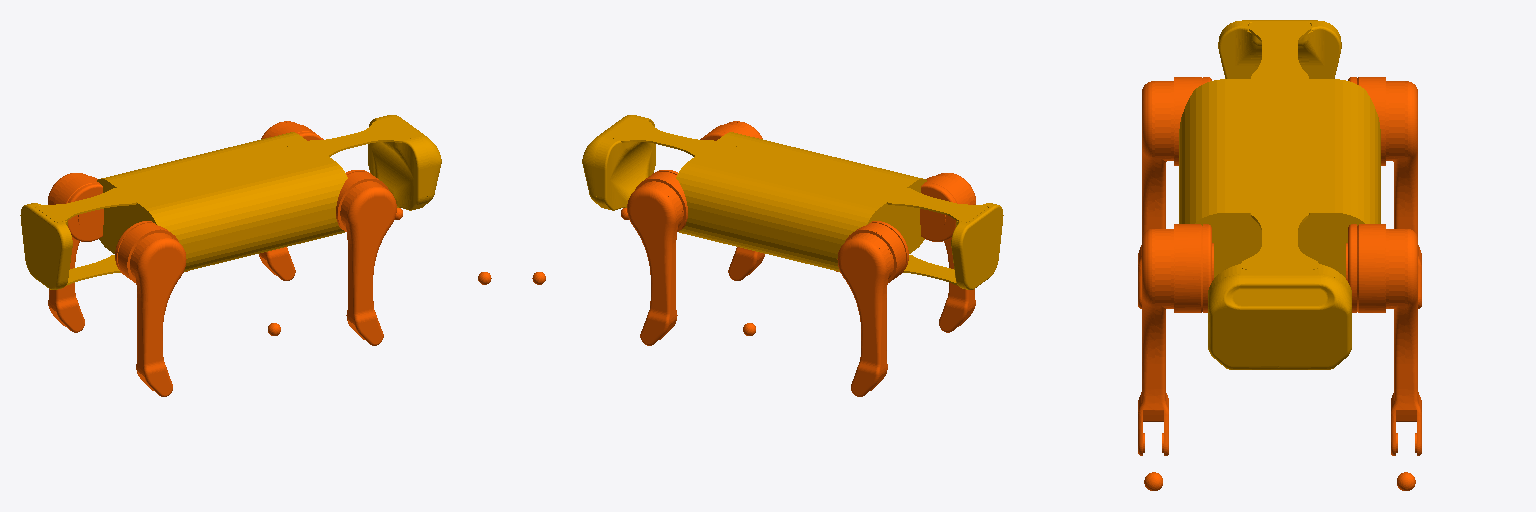
--- What the picture shows (computed from the rendered views, not written in the file) ---
The picture shows the robot from 3 angles, left to right: view 1: azimuth 30°, elevation 25°; view 2: azimuth 150°, elevation 25°; view 3: azimuth 270°, elevation 25°; orthographic projection.
Model robot with 18 links and 17 joints (12 revolute, 5 fixed), rooted at base, posed all joints at 0 but 4 set to mid-range because 0 is outside their limits (RF_KFE = -1.81, LF_KFE = -1.81, RH_KFE = -1.81, LH_KFE = -1.81).
Links seen in each view (by area): view 1: base, RH_thigh, RF_thigh, LH_thigh, LF_thigh; view 2: base, LH_thigh, LF_thigh, RH_thigh, RF_thigh; view 3: base, RF_thigh, LF_thigh, RH_thigh, LH_thigh.
Link boxes in pixels (x1,y1,x2,y2): base: (20,115,441,289); RH_thigh: (115,221,186,396); RF_thigh: (336,170,396,345); LH_thigh: (48,173,103,332); LF_thigh: (259,121,323,280); base: (582,115,1003,289); LH_thigh: (837,221,908,396); LF_thigh: (627,170,687,345); RH_thigh: (920,173,975,332); RF_thigh: (700,121,764,280); base: (1179,20,1380,369); RF_thigh: (1138,224,1213,455); LF_thigh: (1346,224,1421,455); RH_thigh: (1138,77,1211,308); LH_thigh: (1348,77,1421,308).
Size in the robot's own frame: 0.696 by 0.2941 by 0.2695 metres.
Meshes: 5 distinct files referenced, 5 mesh visuals loaded (3 Collada DAE); not drawn: 8 (reference not matched to a file when rendering).

robot.urdf — robot:
<?xml version="1.0" ?>
<!-- =================================================================================== -->
<!-- |    This document was autogenerated by xacro from ./robot.xacro                  | -->
<!-- |    EDITING THIS FILE BY HAND IS NOT RECOMMENDED                                 | -->
<!-- =================================================================================== -->
<robot name="robot">
  <material name="black">
    <color rgba="0.0 0.0 0.0 1.0"/>
  </material>
  <material name="blue">
    <color rgba="0.0 0.0 0.8 1.0"/>
  </material>
  <material name="green">
    <color rgba="0.0 0.8 0.0 1.0"/>
  </material>
  <material name="grey">
    <color rgba="0.2 0.2 0.2 1.0"/>
  </material>
  <material name="silver">
    <color rgba="0.9137254901960784 0.9137254901960784 0.8470588235294118 1.0"/>
  </material>
  <material name="orange">
    <color rgba="1.0 0.4235294117647059 0.0392156862745098 1.0"/>
  </material>
  <material name="brown">
    <color rgba="0.8705882352941177 0.8117647058823529 0.7647058823529411 1.0"/>
  </material>
  <material name="red">
    <color rgba="0.8 0.0 0.0 1.0"/>
  </material>
  <material name="white">
    <color rgba="1.0 1.0 1.0 1.0"/>
  </material>
  <!-- ros_control plugin -->
  <gazebo>
    <plugin filename="liblegged_hw_sim.so" name="gazebo_ros_control">
      <robotNamespace>/</robotNamespace>
      <robotParam>legged_robot_description</robotParam>
      <robotSimType>legged_gazebo/QuadHWSim</robotSimType>
    </plugin>
  </gazebo>
  <gazebo>
    <plugin filename="libgazebo_ros_p3d.so" name="p3d_base_controller">
      <alwaysOn>true</alwaysOn>
      <updateRate>1000.0</updateRate>
      <bodyName>base</bodyName>
      <topicName>ground_truth/state</topicName>
      <gaussianNoise>0</gaussianNoise>
      <frameName>world</frameName>
      <xyzOffsets>0 0 0</xyzOffsets>
      <rpyOffsets>0 0 0</rpyOffsets>
    </plugin>
  </gazebo>
  <gazebo reference="base_link">
    <maxVel>100.</maxVel>
    <kp>10000.</kp>
    <kd>0.</kd>
  </gazebo>
  <gazebo reference="stick_link">
    <mu1>0.2</mu1>
    <mu2>0.2</mu2>
    <material>Gazebo/White</material>
  </gazebo>
  <!-- LF leg -->
  <gazebo reference="LF_hip">
    <mu1>0.2</mu1>
    <mu2>0.2</mu2>
    <material>Gazebo/DarkGrey</material>
  </gazebo>
  <gazebo reference="LF_thigh">
    <mu1>0.2</mu1>
    <mu2>0.2</mu2>
    <self_collide>1</self_collide>
    <material>Gazebo/DarkGrey</material>
    <kp value="1000000.0"/>
    <kd value="1.0"/>
  </gazebo>
  <gazebo reference="LF_calf">
    <mu1>0.2</mu1>
    <mu2>0.2</mu2>
    <self_collide>1</self_collide>
  </gazebo>
  <gazebo reference="LF_FOOT">
    <mu1>0.6</mu1>
    <mu2>0.6</mu2>
    <self_collide>1</self_collide>
    <material>Gazebo/DarkGrey</material>
    <kp value="1000000.0"/>
    <kd value="100.0"/>
  </gazebo>
  <!-- RF leg -->
  <gazebo reference="RF_hip">
    <mu1>0.2</mu1>
    <mu2>0.2</mu2>
    <material>Gazebo/DarkGrey</material>
  </gazebo>
  <gazebo reference="RF_thigh">
    <mu1>0.2</mu1>
    <mu2>0.2</mu2>
    <self_collide>1</self_collide>
    <material>Gazebo/DarkGrey</material>
    <kp value="1000000.0"/>
    <kd value="1.0"/>
  </gazebo>
  <gazebo reference="RF_calf">
    <mu1>0.2</mu1>
    <mu2>0.2</mu2>
    <self_collide>1</self_collide>
  </gazebo>
  <gazebo reference="RF_FOOT">
    <mu1>0.6</mu1>
    <mu2>0.6</mu2>
    <self_collide>1</self_collide>
    <material>Gazebo/DarkGrey</material>
    <kp value="1000000.0"/>
    <kd value="1.0"/>
  </gazebo>
  <!-- LH leg -->
  <gazebo reference="LH_hip">
    <mu1>0.2</mu1>
    <mu2>0.2</mu2>
    <material>Gazebo/DarkGrey</material>
  </gazebo>
  <gazebo reference="LH_thigh">
    <mu1>0.2</mu1>
    <mu2>0.2</mu2>
    <self_collide>1</self_collide>
    <material>Gazebo/DarkGrey</material>
    <kp value="1000000.0"/>
    <kd value="1.0"/>
  </gazebo>
  <gazebo reference="LH_calf">
    <mu1>0.2</mu1>
    <mu2>0.2</mu2>
    <self_collide>1</self_collide>
  </gazebo>
  <gazebo reference="LH_FOOT">
    <mu1>0.6</mu1>
    <mu2>0.6</mu2>
    <self_collide>1</self_collide>
    <material>Gazebo/DarkGrey</material>
    <kp value="1000000.0"/>
    <kd value="1.0"/>
  </gazebo>
  <!-- RH leg -->
  <gazebo reference="RH_hip">
    <mu1>0.2</mu1>
    <mu2>0.2</mu2>
    <material>Gazebo/DarkGrey</material>
  </gazebo>
  <gazebo reference="RH_thigh">
    <mu1>0.2</mu1>
    <mu2>0.2</mu2>
    <self_collide>1</self_collide>
    <material>Gazebo/DarkGrey</material>
    <kp value="1000000.0"/>
    <kd value="1.0"/>
  </gazebo>
  <gazebo reference="RH_calf">
    <mu1>0.2</mu1>
    <mu2>0.2</mu2>
    <self_collide>1</self_collide>
  </gazebo>
  <gazebo reference="RH_FOOT">
    <mu1>0.6</mu1>
    <mu2>0.6</mu2>
    <self_collide>1</self_collide>
    <material>Gazebo/DarkGrey</material>
    <kp value="1000000.0"/>
    <kd value="1.0"/>
  </gazebo>
  <link name="base">
    <visual>
      <origin rpy="0 0 0" xyz="0 0 0"/>
      <geometry>
        <mesh filename="package://unitree_description/meshes/a1/trunk.dae" scale="1 1 1"/>
      </geometry>
    </visual>
    <collision>
      <origin rpy="0 0 0" xyz="0 0 0"/>
      <geometry>
        <box size="0.267 0.194 0.114"/>
      </geometry>
    </collision>
    <inertial>
      <origin rpy="0 0 0" xyz="0.0 0.0041 -0.0005"/>
      <mass value="6.0"/>
      <inertia ixx="0.0158533" ixy="-3.66e-05" ixz="-6.11e-05" iyy="0.0377999" iyz="-2.75e-05" izz="0.0456542"/>
    </inertial>
  </link>
  <!-- Imu is fixed to the base link -->
  <joint name="unitree_imu_joint" type="fixed">
    <origin rpy="0. 0. 0." xyz="0. 0. 0."/>
    <parent link="base"/>
    <child link="unitree_imu"/>
  </joint>
  <!-- Imu link -->
  <link name="unitree_imu">
    <inertial>
      <mass value="0.01"/>
      <origin rpy="0 0 0" xyz="0 0 0"/>
      <inertia ixx="0.000001" ixy="0" ixz="0" iyy="0.000001" iyz="0" izz="0.000001"/>
    </inertial>
    <visual>
      <origin rpy="0 0 0" xyz="0 0 0"/>
      <geometry>
        <box size="0.015 0.015 0.004"/>
      </geometry>
    </visual>
    <material name="orange">
      <color rgba="255 108 10 255"/>
    </material>
  </link>
  <gazebo reference="unitree_imu">
    <material>Gazebo/Orange</material>
  </gazebo>
  <gazebo reference="unitree_imu_joint">
    <disableFixedJointLumping>true</disableFixedJointLumping>
  </gazebo>
  <joint name="RF_HAA" type="revolute">
    <origin rpy="0 0 0" xyz="0.1805 -0.047 0"/>
    <parent link="base"/>
    <child link="RF_hip"/>
    <axis xyz="1 0 0"/>
    <dynamics damping="0" friction="0"/>
    <limit effort="33.5" lower="-0.8028514559173915" upper="0.8028514559173915" velocity="21"/>
  </joint>
  <link name="RF_hip">
    <visual>
      <origin rpy="3.141592653589793 0 0" xyz="0 0 0"/>
      <geometry>
        <mesh filename="package://unitree_description/meshes/a1/hip.dae" scale="1 1 1"/>
      </geometry>
      <material name="orange"/>
    </visual>
    <collision>
      <origin rpy="1.5707963267948966 0 0" xyz="0 0 0"/>
      <geometry>
        <cylinder length="0.04" radius="0.046"/>
      </geometry>
    </collision>
    <inertial>
      <origin rpy="0 0 0" xyz="-0.003875 -0.001622 4.2e-05"/>
      <mass value="0.595"/>
      <inertia ixx="0.000402747" ixy="8.709e-06" ixz="-2.97e-07" iyy="0.000691123" iyz="5.45e-07" izz="0.000487919"/>
    </inertial>
  </link>
  <joint name="RF_HFE" type="revolute">
    <origin rpy="0 0 0" xyz="0 -0.0838 0"/>
    <parent link="RF_hip"/>
    <child link="RF_thigh"/>
    <axis xyz="0 1 0"/>
    <dynamics damping="0" friction="0"/>
    <limit effort="33.5" lower="-1.0471975511965976" upper="4.1887902047863905" velocity="21"/>
  </joint>
  <link name="RF_thigh">
    <visual>
      <origin rpy="0 0 0" xyz="0 0 0"/>
      <geometry>
        <mesh filename="package://unitree_description/meshes/a1/thigh_mirror.dae" scale="1 1 1"/>
      </geometry>
      <material name="orange"/>
    </visual>
    <collision>
      <origin rpy="0 1.5707963267948966 0" xyz="0 0 -0.1"/>
      <geometry>
        <box size="0.2 0.0245 0.034"/>
      </geometry>
    </collision>
    <collision>
      <origin rpy="1.5707963267948966 0 0" xyz="0 0 0"/>
      <geometry>
        <cylinder length="0.032" radius="0.041"/>
      </geometry>
    </collision>
    <inertial>
      <origin rpy="0 0 0" xyz="-0.003574 0.019529 -0.030323"/>
      <mass value="0.888"/>
      <inertia ixx="0.005251806" ixy="2.168e-06" ixz="0.000346889" iyy="0.005000475" iyz="2.8174e-05" izz="0.0011102"/>
    </inertial>
  </link>
  <joint name="RF_KFE" type="revolute">
    <origin rpy="0 0 0" xyz="0 0 -0.2"/>
    <parent link="RF_thigh"/>
    <child link="RF_calf"/>
    <axis xyz="0 1 0"/>
    <dynamics damping="0" friction="0"/>
    <limit effort="33.5" lower="-2.6965336943312392" upper="-0.9162978572970231" velocity="21"/>
  </joint>
  <link name="RF_calf">
    <visual>
      <origin rpy="0 0 0" xyz="0 0 0"/>
      <geometry>
        <mesh filename="package://unitree_description/meshes/a1/calf.dae" scale="1 1 1"/>
      </geometry>
      <material name="orange"/>
    </visual>
    <collision>
      <origin rpy="0 1.5707963267948966 0" xyz="0 0 -0.1"/>
      <geometry>
        <box size="0.2 0.016 0.016"/>
      </geometry>
    </collision>
    <inertial>
      <origin rpy="0 0 0" xyz="0.007105 -0.000239 -0.096933"/>
      <mass value="0.151"/>
      <inertia ixx="0.002344758" ixy="0.0" ixz="-0.000141275" iyy="0.002360755" iyz="0.0" izz="3.1158e-05"/>
    </inertial>
  </link>
  <joint name="RF_foot_fixed" type="fixed">
    <origin rpy="0 0 0" xyz="0 0 -0.2"/>
    <parent link="RF_calf"/>
    <child link="RF_FOOT"/>
  </joint>
  <link name="RF_FOOT">
    <visual>
      <origin rpy="0 0 0" xyz="0 0 0"/>
      <geometry>
        <sphere radius="0.01"/>
      </geometry>
      <material name="orange"/>
    </visual>
    <collision>
      <origin rpy="0 0 0" xyz="0 0 0"/>
      <geometry>
        <sphere radius="0.02"/>
      </geometry>
    </collision>
    <inertial>
      <mass value="0.06"/>
      <inertia ixx="9.600000000000001e-06" ixy="0.0" ixz="0.0" iyy="9.600000000000001e-06" iyz="0.0" izz="9.600000000000001e-06"/>
    </inertial>
  </link>
  <gazebo reference="RF_foot_fixed">
    <disableFixedJointLumping>true</disableFixedJointLumping>
  </gazebo>
  <transmission name="RF_HAA_tran">
    <type>transmission_interface/SimpleTransmission</type>
    <joint name="RF_HAA">
      <hardwareInterface>hardware_interface/EffortJointInterface</hardwareInterface>
    </joint>
    <actuator name="RF_HAA_motor">
      <hardwareInterface>hardware_interface/EffortJointInterface</hardwareInterface>
      <mechanicalReduction>1</mechanicalReduction>
    </actuator>
  </transmission>
  <transmission name="RF_HFE_tran">
    <type>transmission_interface/SimpleTransmission</type>
    <joint name="RF_HFE">
      <hardwareInterface>hardware_interface/EffortJointInterface</hardwareInterface>
    </joint>
    <actuator name="RF_HFE_motor">
      <hardwareInterface>hardware_interface/EffortJointInterface</hardwareInterface>
      <mechanicalReduction>1</mechanicalReduction>
    </actuator>
  </transmission>
  <transmission name="RF_KFE_tran">
    <type>transmission_interface/SimpleTransmission</type>
    <joint name="RF_KFE">
      <hardwareInterface>hardware_interface/EffortJointInterface</hardwareInterface>
    </joint>
    <actuator name="RF_KFE_motor">
      <hardwareInterface>hardware_interface/EffortJointInterface</hardwareInterface>
      <mechanicalReduction>1</mechanicalReduction>
    </actuator>
  </transmission>
  <joint name="LF_HAA" type="revolute">
    <origin rpy="0 0 0" xyz="0.1805 0.047 0"/>
    <parent link="base"/>
    <child link="LF_hip"/>
    <axis xyz="1 0 0"/>
    <dynamics damping="0" friction="0"/>
    <limit effort="33.5" lower="-0.8028514559173915" upper="0.8028514559173915" velocity="21"/>
  </joint>
  <link name="LF_hip">
    <visual>
      <origin rpy="0 0 0" xyz="0 0 0"/>
      <geometry>
        <mesh filename="package://unitree_description/meshes/a1/hip.dae" scale="1 1 1"/>
      </geometry>
      <material name="orange"/>
    </visual>
    <collision>
      <origin rpy="1.5707963267948966 0 0" xyz="0 0 0"/>
      <geometry>
        <cylinder length="0.04" radius="0.046"/>
      </geometry>
    </collision>
    <inertial>
      <origin rpy="0 0 0" xyz="-0.003875 0.001622 4.2e-05"/>
      <mass value="0.595"/>
      <inertia ixx="0.000402747" ixy="-8.709e-06" ixz="-2.97e-07" iyy="0.000691123" iyz="-5.45e-07" izz="0.000487919"/>
    </inertial>
  </link>
  <joint name="LF_HFE" type="revolute">
    <origin rpy="0 0 0" xyz="0 0.0838 0"/>
    <parent link="LF_hip"/>
    <child link="LF_thigh"/>
    <axis xyz="0 1 0"/>
    <dynamics damping="0" friction="0"/>
    <limit effort="33.5" lower="-1.0471975511965976" upper="4.1887902047863905" velocity="21"/>
  </joint>
  <link name="LF_thigh">
    <visual>
      <origin rpy="0 0 0" xyz="0 0 0"/>
      <geometry>
        <mesh filename="package://unitree_description/meshes/a1/thigh.dae" scale="1 1 1"/>
      </geometry>
      <material name="orange"/>
    </visual>
    <collision>
      <origin rpy="0 1.5707963267948966 0" xyz="0 0 -0.1"/>
      <geometry>
        <box size="0.2 0.0245 0.034"/>
      </geometry>
    </collision>
    <collision>
      <origin rpy="1.5707963267948966 0 0" xyz="0 0 0"/>
      <geometry>
        <cylinder length="0.032" radius="0.041"/>
      </geometry>
    </collision>
    <inertial>
      <origin rpy="0 0 0" xyz="-0.003574 -0.019529 -0.030323"/>
      <mass value="0.888"/>
      <inertia ixx="0.005251806" ixy="-2.168e-06" ixz="0.000346889" iyy="0.005000475" iyz="-2.8174e-05" izz="0.0011102"/>
    </inertial>
  </link>
  <joint name="LF_KFE" type="revolute">
    <origin rpy="0 0 0" xyz="0 0 -0.2"/>
    <parent link="LF_thigh"/>
    <child link="LF_calf"/>
    <axis xyz="0 1 0"/>
    <dynamics damping="0" friction="0"/>
    <limit effort="33.5" lower="-2.6965336943312392" upper="-0.9162978572970231" velocity="21"/>
  </joint>
  <link name="LF_calf">
    <visual>
      <origin rpy="0 0 0" xyz="0 0 0"/>
      <geometry>
        <mesh filename="package://unitree_description/meshes/a1/calf.dae" scale="1 1 1"/>
      </geometry>
      <material name="orange"/>
    </visual>
    <collision>
      <origin rpy="0 1.5707963267948966 0" xyz="0 0 -0.1"/>
      <geometry>
        <box size="0.2 0.016 0.016"/>
      </geometry>
    </collision>
    <inertial>
      <origin rpy="0 0 0" xyz="0.007105 -0.000239 -0.096933"/>
      <mass value="0.151"/>
      <inertia ixx="0.002344758" ixy="0.0" ixz="-0.000141275" iyy="0.002360755" iyz="0.0" izz="3.1158e-05"/>
    </inertial>
  </link>
  <joint name="LF_foot_fixed" type="fixed">
    <origin rpy="0 0 0" xyz="0 0 -0.2"/>
    <parent link="LF_calf"/>
    <child link="LF_FOOT"/>
  </joint>
  <link name="LF_FOOT">
    <visual>
      <origin rpy="0 0 0" xyz="0 0 0"/>
      <geometry>
        <sphere radius="0.01"/>
      </geometry>
      <material name="orange"/>
    </visual>
    <collision>
      <origin rpy="0 0 0" xyz="0 0 0"/>
      <geometry>
        <sphere radius="0.02"/>
      </geometry>
    </collision>
    <inertial>
      <mass value="0.06"/>
      <inertia ixx="9.600000000000001e-06" ixy="0.0" ixz="0.0" iyy="9.600000000000001e-06" iyz="0.0" izz="9.600000000000001e-06"/>
    </inertial>
  </link>
  <gazebo reference="LF_foot_fixed">
    <disableFixedJointLumping>true</disableFixedJointLumping>
  </gazebo>
  <transmission name="LF_HAA_tran">
    <type>transmission_interface/SimpleTransmission</type>
    <joint name="LF_HAA">
      <hardwareInterface>hardware_interface/EffortJointInterface</hardwareInterface>
    </joint>
    <actuator name="LF_HAA_motor">
      <hardwareInterface>hardware_interface/EffortJointInterface</hardwareInterface>
      <mechanicalReduction>1</mechanicalReduction>
    </actuator>
  </transmission>
  <transmission name="LF_HFE_tran">
    <type>transmission_interface/SimpleTransmission</type>
    <joint name="LF_HFE">
      <hardwareInterface>hardware_interface/EffortJointInterface</hardwareInterface>
    </joint>
    <actuator name="LF_HFE_motor">
      <hardwareInterface>hardware_interface/EffortJointInterface</hardwareInterface>
      <mechanicalReduction>1</mechanicalReduction>
    </actuator>
  </transmission>
  <transmission name="LF_KFE_tran">
    <type>transmission_interface/SimpleTransmission</type>
    <joint name="LF_KFE">
      <hardwareInterface>hardware_interface/EffortJointInterface</hardwareInterface>
    </joint>
    <actuator name="LF_KFE_motor">
      <hardwareInterface>hardware_interface/EffortJointInterface</hardwareInterface>
      <mechanicalReduction>1</mechanicalReduction>
    </actuator>
  </transmission>
  <joint name="RH_HAA" type="revolute">
    <origin rpy="0 0 0" xyz="-0.1805 -0.047 0"/>
    <parent link="base"/>
    <child link="RH_hip"/>
    <axis xyz="1 0 0"/>
    <dynamics damping="0" friction="0"/>
    <limit effort="33.5" lower="-0.8028514559173915" upper="0.8028514559173915" velocity="21"/>
  </joint>
  <link name="RH_hip">
    <visual>
      <origin rpy="3.141592653589793 3.141592653589793 0" xyz="0 0 0"/>
      <geometry>
        <mesh filename="package://unitree_description/meshes/a1/hip.dae" scale="1 1 1"/>
      </geometry>
      <material name="orange"/>
    </visual>
    <collision>
      <origin rpy="1.5707963267948966 0 0" xyz="0 0 0"/>
      <geometry>
        <cylinder length="0.04" radius="0.046"/>
      </geometry>
    </collision>
    <inertial>
      <origin rpy="0 0 0" xyz="0.003875 -0.001622 4.2e-05"/>
      <mass value="0.595"/>
      <inertia ixx="0.000402747" ixy="-8.709e-06" ixz="2.97e-07" iyy="0.000691123" iyz="5.45e-07" izz="0.000487919"/>
    </inertial>
  </link>
  <joint name="RH_HFE" type="revolute">
    <origin rpy="0 0 0" xyz="0 -0.0838 0"/>
    <parent link="RH_hip"/>
    <child link="RH_thigh"/>
    <axis xyz="0 1 0"/>
    <dynamics damping="0" friction="0"/>
    <limit effort="33.5" lower="-1.0471975511965976" upper="4.1887902047863905" velocity="21"/>
  </joint>
  <link name="RH_thigh">
    <visual>
      <origin rpy="0 0 0" xyz="0 0 0"/>
      <geometry>
        <mesh filename="package://unitree_description/meshes/a1/thigh_mirror.dae" scale="1 1 1"/>
      </geometry>
      <material name="orange"/>
    </visual>
    <collision>
      <origin rpy="0 1.5707963267948966 0" xyz="0 0 -0.1"/>
      <geometry>
        <box size="0.2 0.0245 0.034"/>
      </geometry>
    </collision>
    <collision>
      <origin rpy="1.5707963267948966 0 0" xyz="0 0 0"/>
      <geometry>
        <cylinder length="0.032" radius="0.041"/>
      </geometry>
    </collision>
    <inertial>
      <origin rpy="0 0 0" xyz="-0.003574 0.019529 -0.030323"/>
      <mass value="0.888"/>
      <inertia ixx="0.005251806" ixy="2.168e-06" ixz="0.000346889" iyy="0.005000475" iyz="2.8174e-05" izz="0.0011102"/>
    </inertial>
  </link>
  <joint name="RH_KFE" type="revolute">
    <origin rpy="0 0 0" xyz="0 0 -0.2"/>
    <parent link="RH_thigh"/>
    <child link="RH_calf"/>
    <axis xyz="0 1 0"/>
    <dynamics damping="0" friction="0"/>
    <limit effort="33.5" lower="-2.6965336943312392" upper="-0.9162978572970231" velocity="21"/>
  </joint>
  <link name="RH_calf">
    <visual>
      <origin rpy="0 0 0" xyz="0 0 0"/>
      <geometry>
        <mesh filename="package://unitree_description/meshes/a1/calf.dae" scale="1 1 1"/>
      </geometry>
      <material name="orange"/>
    </visual>
    <collision>
      <origin rpy="0 1.5707963267948966 0" xyz="0 0 -0.1"/>
      <geometry>
        <box size="0.2 0.016 0.016"/>
      </geometry>
    </collision>
    <inertial>
      <origin rpy="0 0 0" xyz="0.007105 -0.000239 -0.096933"/>
      <mass value="0.151"/>
      <inertia ixx="0.002344758" ixy="0.0" ixz="-0.000141275" iyy="0.002360755" iyz="0.0" izz="3.1158e-05"/>
    </inertial>
  </link>
  <joint name="RH_foot_fixed" type="fixed">
    <origin rpy="0 0 0" xyz="0 0 -0.2"/>
    <parent link="RH_calf"/>
    <child link="RH_FOOT"/>
  </joint>
  <link name="RH_FOOT">
    <visual>
      <origin rpy="0 0 0" xyz="0 0 0"/>
      <geometry>
        <sphere radius="0.01"/>
      </geometry>
      <material name="orange"/>
    </visual>
    <collision>
      <origin rpy="0 0 0" xyz="0 0 0"/>
      <geometry>
        <sphere radius="0.02"/>
      </geometry>
    </collision>
    <inertial>
      <mass value="0.06"/>
      <inertia ixx="9.600000000000001e-06" ixy="0.0" ixz="0.0" iyy="9.600000000000001e-06" iyz="0.0" izz="9.600000000000001e-06"/>
    </inertial>
  </link>
  <gazebo reference="RH_foot_fixed">
    <disableFixedJointLumping>true</disableFixedJointLumping>
  </gazebo>
  <transmission name="RH_HAA_tran">
    <type>transmission_interface/SimpleTransmission</type>
    <joint name="RH_HAA">
      <hardwareInterface>hardware_interface/EffortJointInterface</hardwareInterface>
    </joint>
    <actuator name="RH_HAA_motor">
      <hardwareInterface>hardware_interface/EffortJointInterface</hardwareInterface>
      <mechanicalReduction>1</mechanicalReduction>
    </actuator>
  </transmission>
  <transmission name="RH_HFE_tran">
    <type>transmission_interface/SimpleTransmission</type>
    <joint name="RH_HFE">
      <hardwareInterface>hardware_interface/EffortJointInterface</hardwareInterface>
    </joint>
    <actuator name="RH_HFE_motor">
      <hardwareInterface>hardware_interface/EffortJointInterface</hardwareInterface>
      <mechanicalReduction>1</mechanicalReduction>
    </actuator>
  </transmission>
  <transmission name="RH_KFE_tran">
    <type>transmission_interface/SimpleTransmission</type>
    <joint name="RH_KFE">
      <hardwareInterface>hardware_interface/EffortJointInterface</hardwareInterface>
    </joint>
    <actuator name="RH_KFE_motor">
      <hardwareInterface>hardware_interface/EffortJointInterface</hardwareInterface>
      <mechanicalReduction>1</mechanicalReduction>
    </actuator>
  </transmission>
  <joint name="LH_HAA" type="revolute">
    <origin rpy="0 0 0" xyz="-0.1805 0.047 0"/>
    <parent link="base"/>
    <child link="LH_hip"/>
    <axis xyz="1 0 0"/>
    <dynamics damping="0" friction="0"/>
    <limit effort="33.5" lower="-0.8028514559173915" upper="0.8028514559173915" velocity="21"/>
  </joint>
  <link name="LH_hip">
    <visual>
      <origin rpy="0 3.141592653589793 0" xyz="0 0 0"/>
      <geometry>
        <mesh filename="package://unitree_description/meshes/a1/hip.dae" scale="1 1 1"/>
      </geometry>
      <material name="orange"/>
    </visual>
    <collision>
      <origin rpy="1.5707963267948966 0 0" xyz="0 0 0"/>
      <geometry>
        <cylinder length="0.04" radius="0.046"/>
      </geometry>
    </collision>
    <inertial>
      <origin rpy="0 0 0" xyz="0.003875 0.001622 4.2e-05"/>
      <mass value="0.595"/>
      <inertia ixx="0.000402747" ixy="8.709e-06" ixz="2.97e-07" iyy="0.000691123" iyz="-5.45e-07" izz="0.000487919"/>
    </inertial>
  </link>
  <joint name="LH_HFE" type="revolute">
    <origin rpy="0 0 0" xyz="0 0.0838 0"/>
    <parent link="LH_hip"/>
    <child link="LH_thigh"/>
    <axis xyz="0 1 0"/>
    <dynamics damping="0" friction="0"/>
    <limit effort="33.5" lower="-1.0471975511965976" upper="4.1887902047863905" velocity="21"/>
  </joint>
  <link name="LH_thigh">
    <visual>
      <origin rpy="0 0 0" xyz="0 0 0"/>
      <geometry>
        <mesh filename="package://unitree_description/meshes/a1/thigh.dae" scale="1 1 1"/>
      </geometry>
      <material name="orange"/>
    </visual>
    <collision>
      <origin rpy="0 1.5707963267948966 0" xyz="0 0 -0.1"/>
      <geometry>
        <box size="0.2 0.0245 0.034"/>
      </geometry>
    </collision>
    <collision>
      <origin rpy="1.5707963267948966 0 0" xyz="0 0 0"/>
      <geometry>
        <cylinder length="0.032" radius="0.041"/>
      </geometry>
    </collision>
    <inertial>
      <origin rpy="0 0 0" xyz="-0.003574 -0.019529 -0.030323"/>
      <mass value="0.888"/>
      <inertia ixx="0.005251806" ixy="-2.168e-06" ixz="0.000346889" iyy="0.005000475" iyz="-2.8174e-05" izz="0.0011102"/>
    </inertial>
  </link>
  <joint name="LH_KFE" type="revolute">
    <origin rpy="0 0 0" xyz="0 0 -0.2"/>
    <parent link="LH_thigh"/>
    <child link="LH_calf"/>
    <axis xyz="0 1 0"/>
    <dynamics damping="0" friction="0"/>
    <limit effort="33.5" lower="-2.6965336943312392" upper="-0.9162978572970231" velocity="21"/>
  </joint>
  <link name="LH_calf">
    <visual>
      <origin rpy="0 0 0" xyz="0 0 0"/>
      <geometry>
        <mesh filename="package://unitree_description/meshes/a1/calf.dae" scale="1 1 1"/>
      </geometry>
      <material name="orange"/>
    </visual>
    <collision>
      <origin rpy="0 1.5707963267948966 0" xyz="0 0 -0.1"/>
      <geometry>
        <box size="0.2 0.016 0.016"/>
      </geometry>
    </collision>
    <inertial>
      <origin rpy="0 0 0" xyz="0.007105 -0.000239 -0.096933"/>
      <mass value="0.151"/>
      <inertia ixx="0.002344758" ixy="0.0" ixz="-0.000141275" iyy="0.002360755" iyz="0.0" izz="3.1158e-05"/>
    </inertial>
  </link>
  <joint name="LH_foot_fixed" type="fixed">
    <origin rpy="0 0 0" xyz="0 0 -0.2"/>
    <parent link="LH_calf"/>
    <child link="LH_FOOT"/>
  </joint>
  <link name="LH_FOOT">
    <visual>
      <origin rpy="0 0 0" xyz="0 0 0"/>
      <geometry>
        <sphere radius="0.01"/>
      </geometry>
      <material name="orange"/>
    </visual>
    <collision>
      <origin rpy="0 0 0" xyz="0 0 0"/>
      <geometry>
        <sphere radius="0.02"/>
      </geometry>
    </collision>
    <inertial>
      <mass value="0.06"/>
      <inertia ixx="9.600000000000001e-06" ixy="0.0" ixz="0.0" iyy="9.600000000000001e-06" iyz="0.0" izz="9.600000000000001e-06"/>
    </inertial>
  </link>
  <gazebo reference="LH_foot_fixed">
    <disableFixedJointLumping>true</disableFixedJointLumping>
  </gazebo>
  <transmission name="LH_HAA_tran">
    <type>transmission_interface/SimpleTransmission</type>
    <joint name="LH_HAA">
      <hardwareInterface>hardware_interface/EffortJointInterface</hardwareInterface>
    </joint>
    <actuator name="LH_HAA_motor">
      <hardwareInterface>hardware_interface/EffortJointInterface</hardwareInterface>
      <mechanicalReduction>1</mechanicalReduction>
    </actuator>
  </transmission>
  <transmission name="LH_HFE_tran">
    <type>transmission_interface/SimpleTransmission</type>
    <joint name="LH_HFE">
      <hardwareInterface>hardware_interface/EffortJointInterface</hardwareInterface>
    </joint>
    <actuator name="LH_HFE_motor">
      <hardwareInterface>hardware_interface/EffortJointInterface</hardwareInterface>
      <mechanicalReduction>1</mechanicalReduction>
    </actuator>
  </transmission>
  <transmission name="LH_KFE_tran">
    <type>transmission_interface/SimpleTransmission</type>
    <joint name="LH_KFE">
      <hardwareInterface>hardware_interface/EffortJointInterface</hardwareInterface>
    </joint>
    <actuator name="LH_KFE_motor">
      <hardwareInterface>hardware_interface/EffortJointInterface</hardwareInterface>
      <mechanicalReduction>1</mechanicalReduction>
    </actuator>
  </transmission>
</robot>
